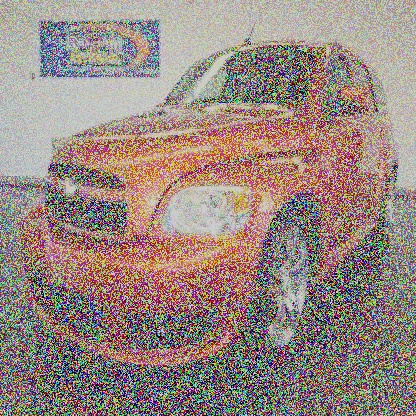Vehicle: (21, 39, 401, 375)
